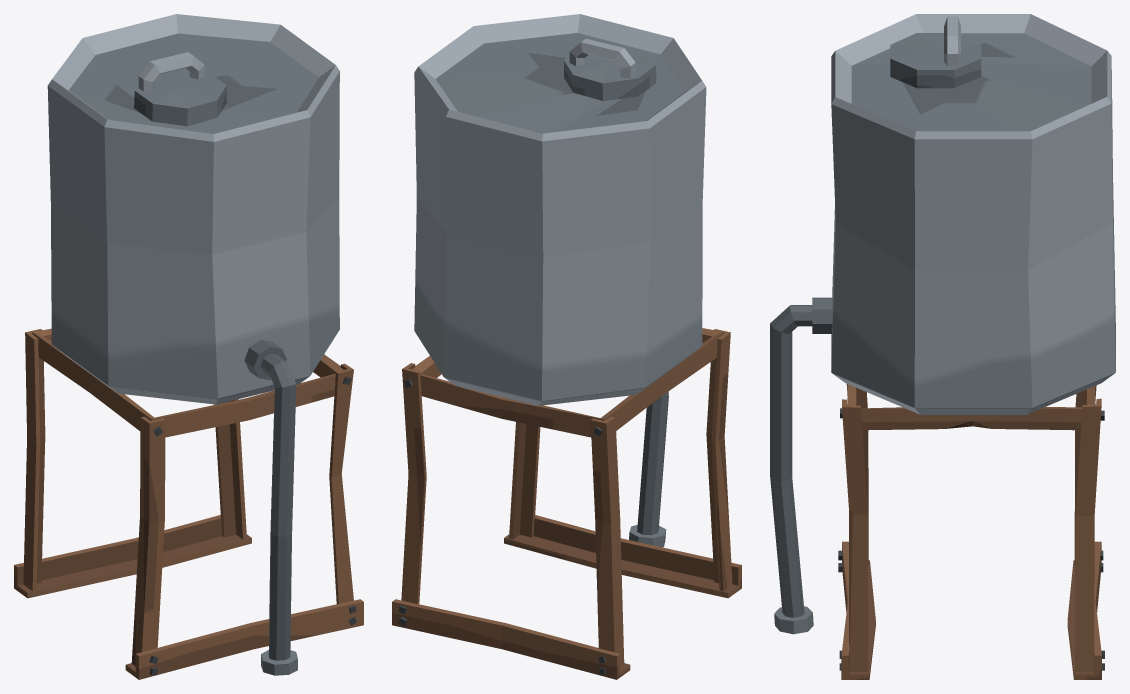
Rendered from SM_Prop_WaterTank_01.fbx.
The picture shows the model from 3 angles, left to right: view 1: azimuth 30°, elevation 25°; view 2: azimuth 150°, elevation 25°; view 3: azimuth 270°, elevation 25°; orthographic projection. The views are drawn at different scales.
Visible parts, largest first — view 1: SM_Prop_WaterTank_01; view 2: SM_Prop_WaterTank_01; view 3: SM_Prop_WaterTank_01.
Part boxes in pixels (x1=…): SM_Prop_WaterTank_01: x1=14, y1=14, x2=363, y2=679; SM_Prop_WaterTank_01: x1=392, y1=14, x2=741, y2=679; SM_Prop_WaterTank_01: x1=770, y1=14, x2=1115, y2=679.
Bounding box in the file's own units: 184 × 418 × 224.
